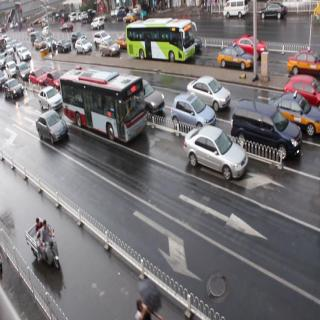BigCar: (62, 58, 132, 138), (129, 14, 187, 80)
Car: (234, 94, 296, 178), (189, 123, 248, 192), (170, 83, 210, 127), (39, 111, 69, 155), (214, 44, 246, 77), (287, 44, 311, 72)
